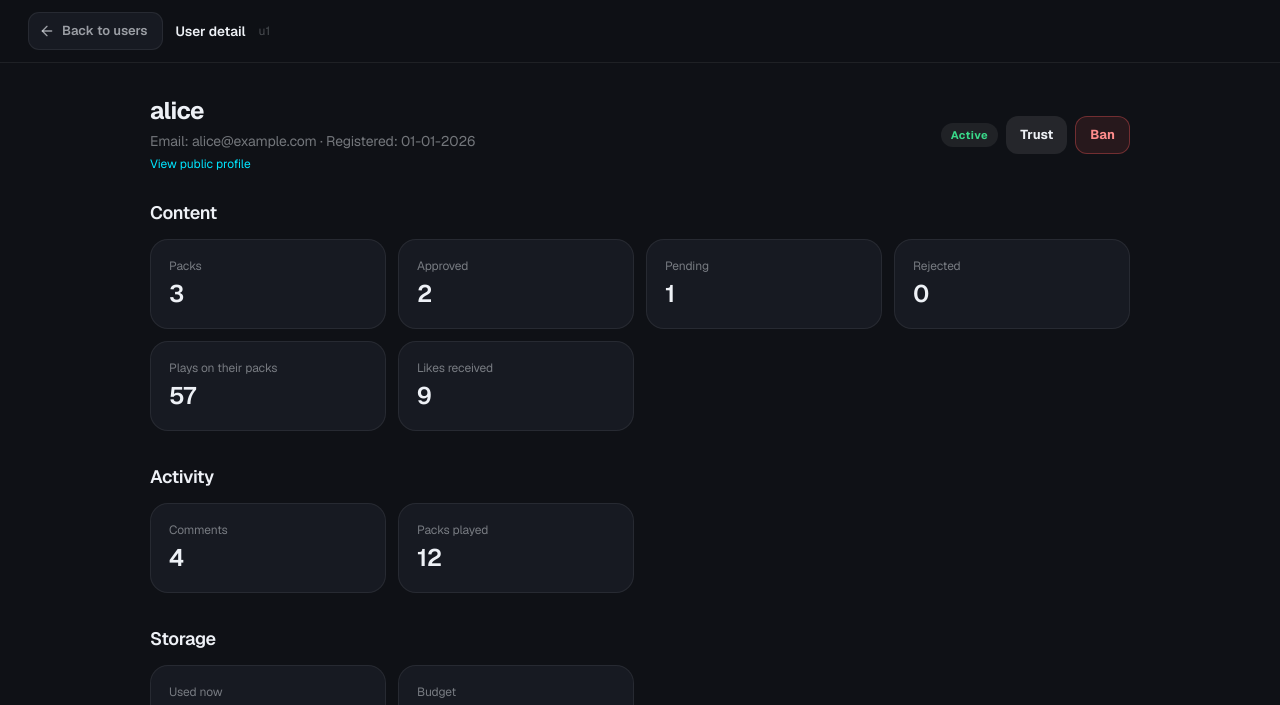
Test: AdminUserDetailScreen › moderation actions › surfaces a localized error when trust fails
The image size is (1280, 705).
Click the button "Trust": (1037,135) [1006, 116, 1067, 154]
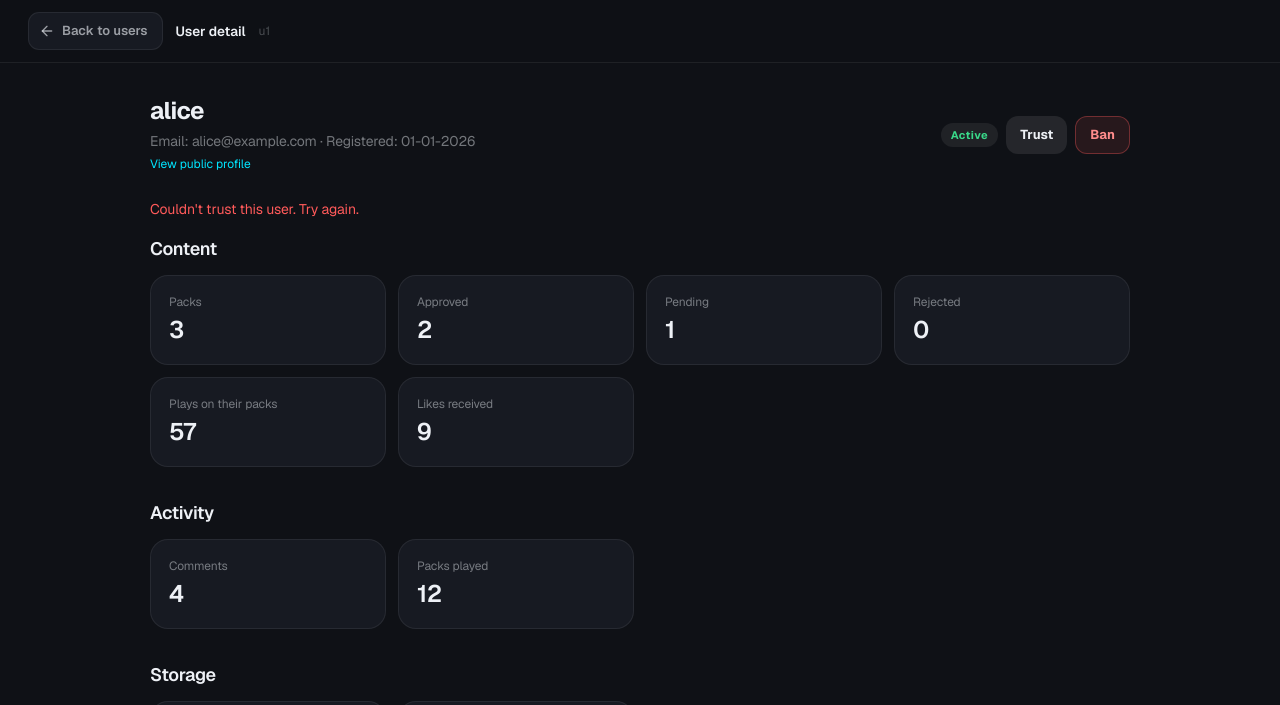
Expected: the text "Couldn't trust this user. Try again." is shown, [150, 200, 359, 218]
